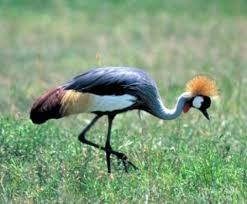bird: (27, 61, 222, 176)
